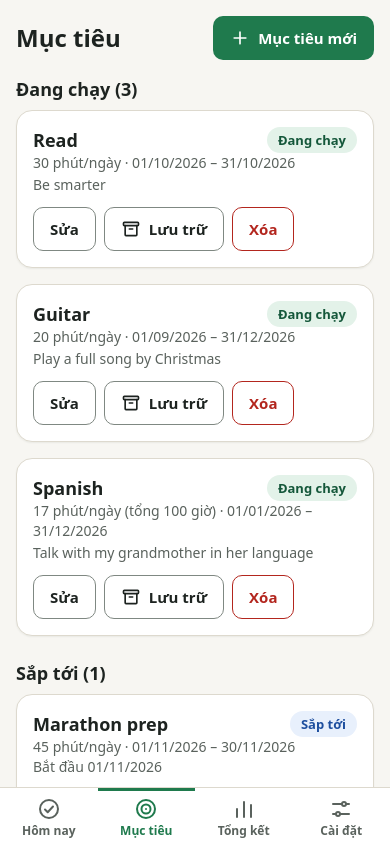
it: Goals (M1-AC5, M1-AC9, M1-AC18) › vi: three groups, dates in dd/MM/yyyy, dialog, no English leaks
Expected: the heading "Đang chạy (3)" is shown, left=16, top=77, right=138, bottom=101
Expected: the heading "Sắp tới (1)" is shown, left=16, top=661, right=106, bottom=685
Click the button "Xóa" below "Read". click: (263, 229)
box: left=232, top=207, right=294, bottom=251
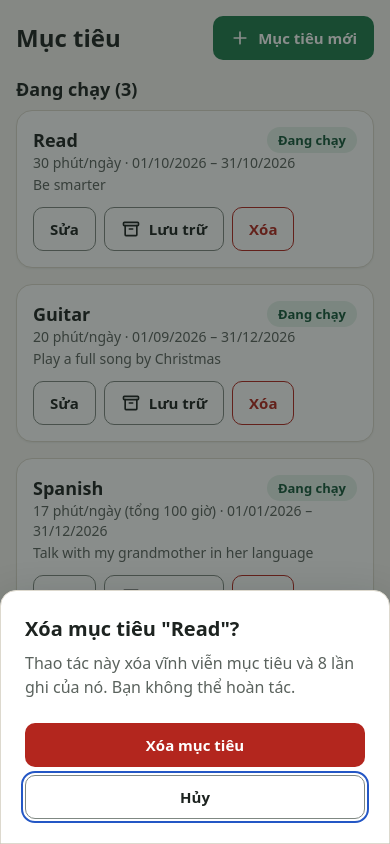
Expected: the heading "Xóa mục tiêu \"Read\"?" is shown, left=25, top=615, right=239, bottom=642
Expected: the text "Thao tác này xóa vĩnh viễn mục tiêu và 8 lần ghi của nó. Bạn không thể hoàn tác." is shown, left=25, top=651, right=365, bottom=699
